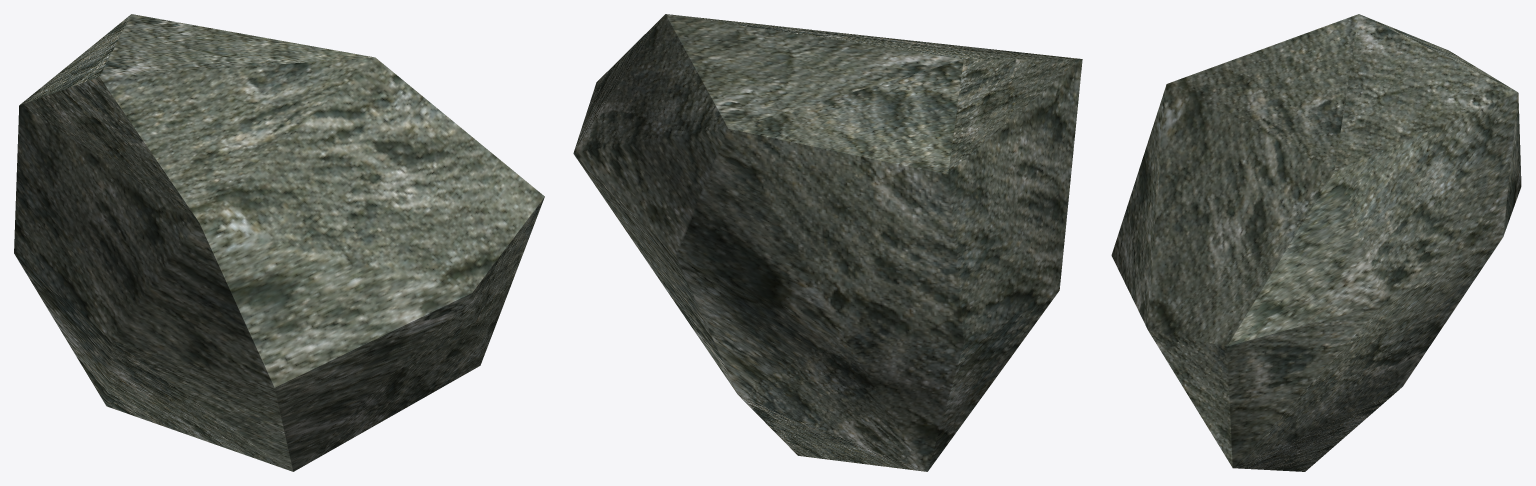
The model's file is mm9_deco_stone.glb.
The picture shows the model from 3 angles, left to right: view 1: azimuth 30°, elevation 25°; view 2: azimuth 150°, elevation 25°; view 3: azimuth 270°, elevation 25°; orthographic projection. The views are drawn at different scales.
Parts seen in each view (by area): view 1: Stone; view 2: Stone; view 3: Stone.
Boxes of the visible parts, bbox=[...] form: Stone: bbox=[14, 14, 544, 471]; Stone: bbox=[573, 14, 1082, 471]; Stone: bbox=[1111, 14, 1521, 471].
Size of the model in its own units: 0.2098 by 0.1882 by 0.1843.
Materials: 1 (1 with a texture image).
